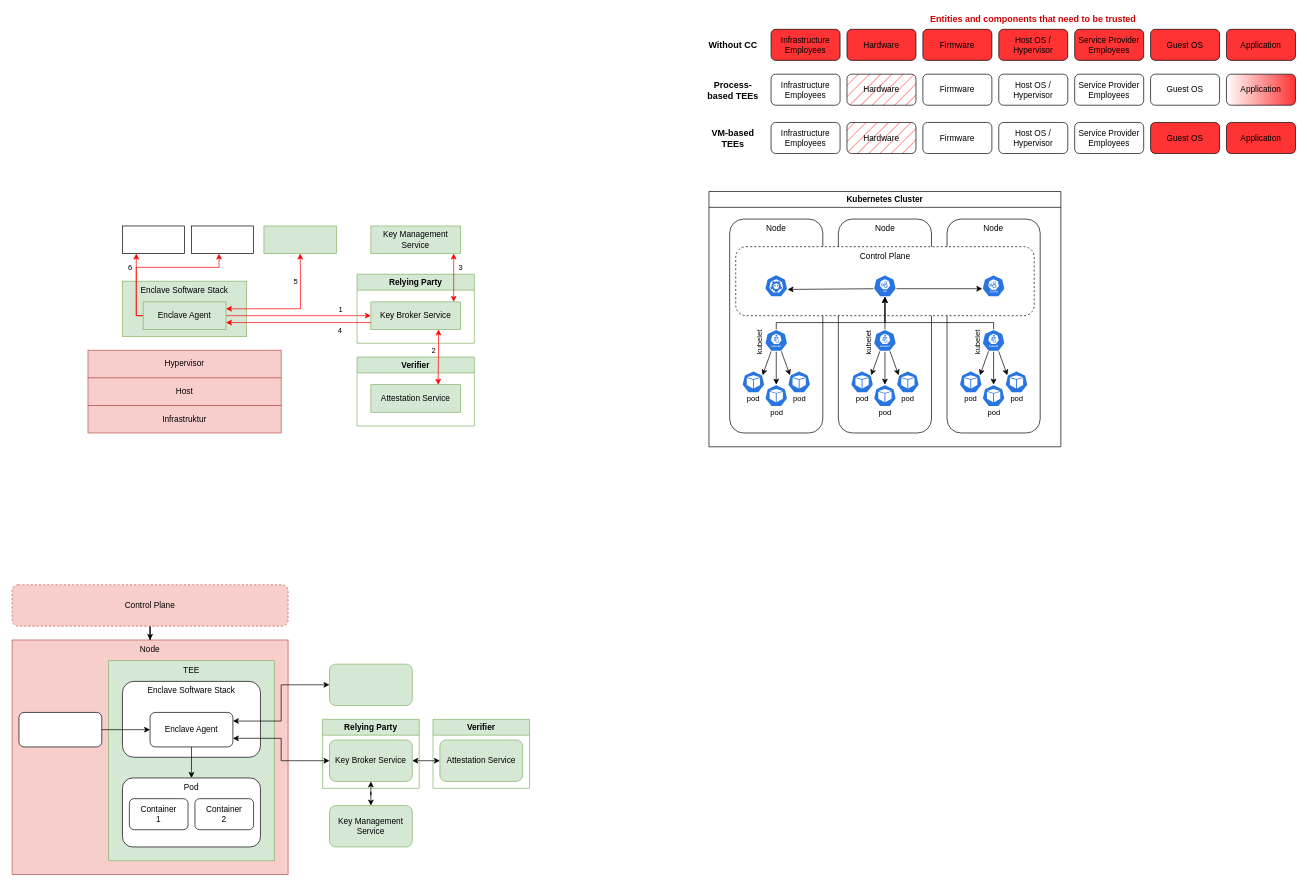
Some shapes in this 1308 by 887 pixel diagram are drawn without their labels. The shapes that lost their labels are listed below. From the top down, each one's centre as x and y in pixels, then its label:
At pixel 153 239: "Anwendung 1".
At pixel 222 239: "Anwendung 2".
At pixel 299 239: "Repository (signed)".
At pixel 776 285: "etcd".
At pixel 884 285: "api".
At pixel 993 285: "scheduler".
At pixel 370 684: "Container Image Registry".
At pixel 60 729: "Container Manager".
